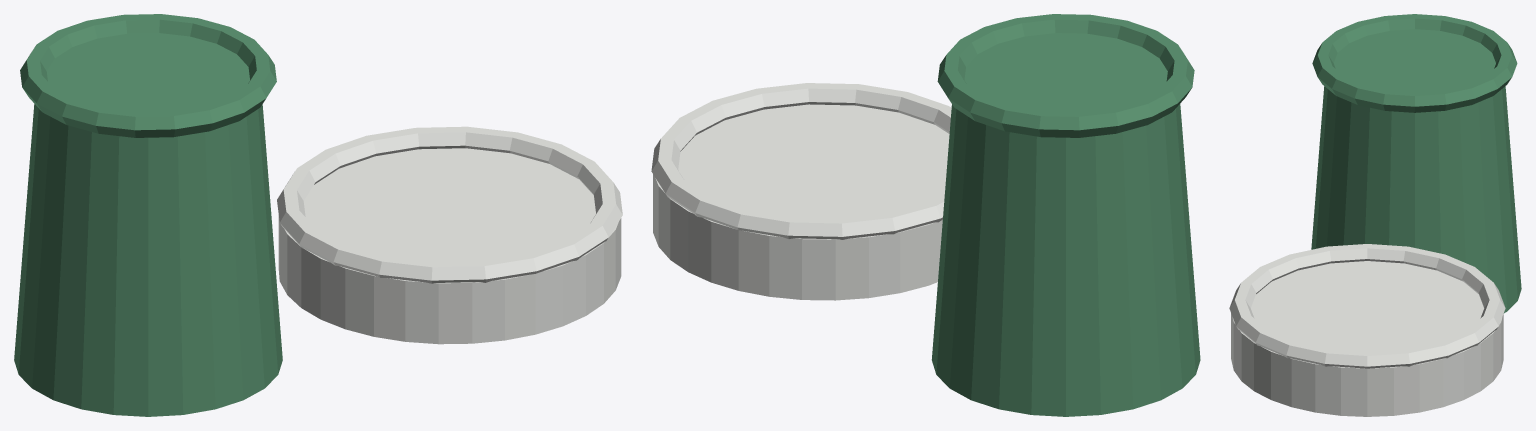
The model's file is bucket_bowl_green.glb.
3 views of the same model, side by side, from view 1: azimuth 30°, elevation 25°; view 2: azimuth 150°, elevation 25°; view 3: azimuth 270°, elevation 25° (orthographic). The views are drawn at different scales.
Parts seen in each view (by area): view 1: water bucket, wash bowl, bowl rim, bucket rim; view 2: water bucket, wash bowl, bowl rim, bucket rim; view 3: water bucket, wash bowl, bowl rim, bucket rim.
Boxes of the visible parts, x1,y1,x2,y2 form: water bucket: (14,33,282,416); wash bowl: (278,148,621,344); bowl rim: (277,126,622,283); bucket rim: (20,14,276,137); water bucket: (931,33,1200,416); wash bowl: (653,104,949,300); bowl rim: (651,83,951,239); bucket rim: (937,14,1194,137); water bucket: (1311,29,1521,313); wash bowl: (1231,261,1503,416); bowl rim: (1229,244,1505,368); bucket rim: (1312,14,1517,112).
Bounding box in the file's own units: 0.833 × 0.4356 × 0.493.
